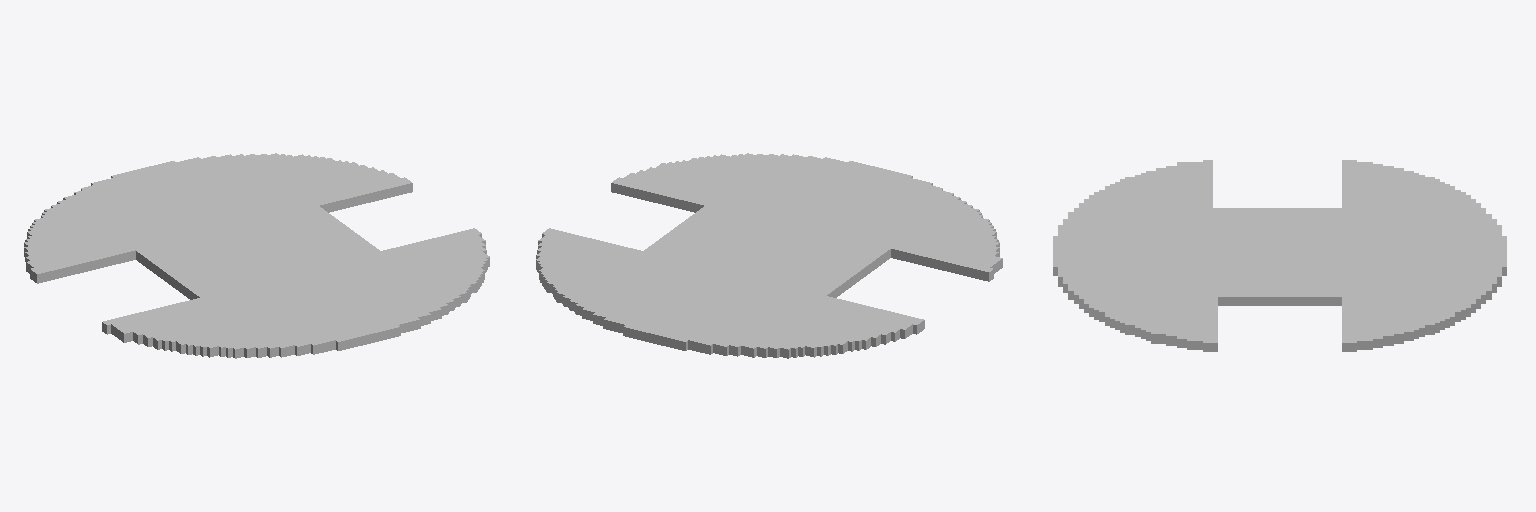
Rendered from 2 лвл-4.obj.
3 renders of one model, left to right at view 1: azimuth 30°, elevation 25°; view 2: azimuth 150°, elevation 25°; view 3: azimuth 270°, elevation 25°, orthographic.
Parts seen in each view (by area): view 1: object 1; view 2: object 1; view 3: object 1.
Part boxes in pixels (x1,y1,x2,y2): object 1: (24,153,489,358); object 1: (536,153,1002,358); object 1: (1053,160,1506,351).
Size of the model in its own units: 8.4 by 0.2 by 8.8.